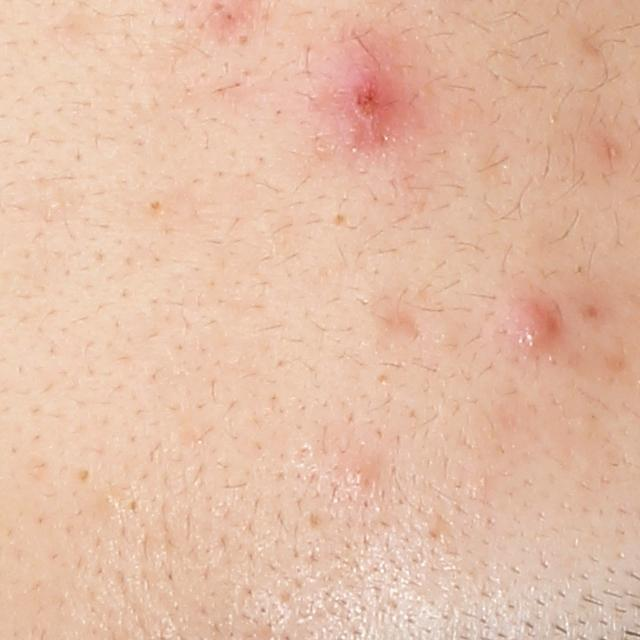atrophic_scar: (376, 308, 422, 343)
comedo: (139, 192, 166, 218), (72, 466, 94, 483)
papule: (316, 53, 409, 147), (503, 297, 561, 363)
